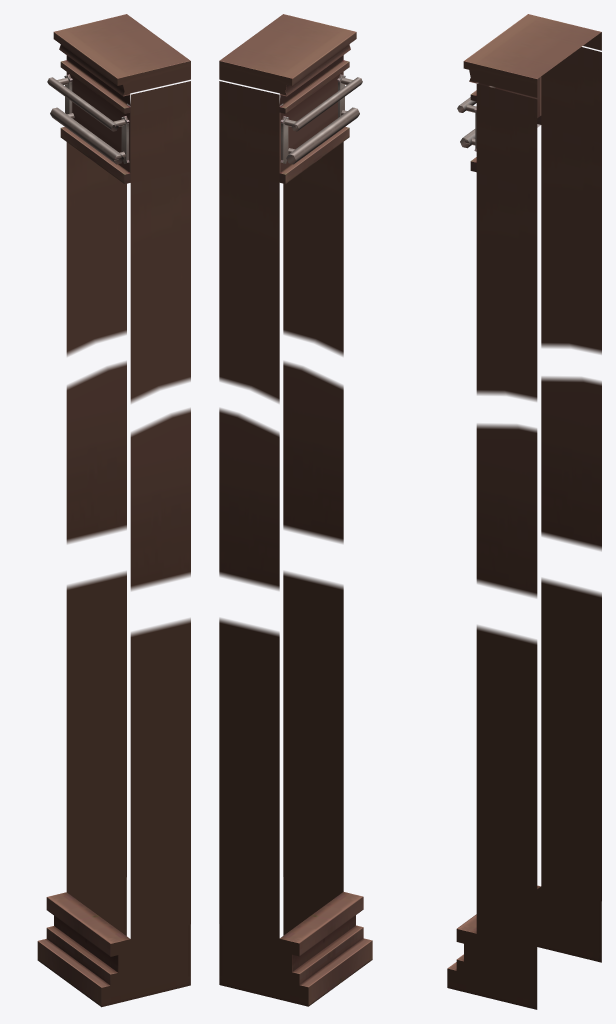
File: my_wildhunt_01_bookcase_02.glb
3 views of the same model, side by side, from view 1: azimuth 30°, elevation 25°; view 2: azimuth 150°, elevation 25°; view 3: azimuth 330°, elevation 25° (orthographic).
Parts seen in each view (by area): view 1: my_wildhunt_01_bookcase_02; view 2: my_wildhunt_01_bookcase_02; view 3: my_wildhunt_01_bookcase_02.
Boxes of the visible parts, left/top/right/bottom form: my_wildhunt_01_bookcase_02: left=37, top=14, right=190, bottom=1007; my_wildhunt_01_bookcase_02: left=219, top=14, right=372, bottom=1006; my_wildhunt_01_bookcase_02: left=447, top=14, right=601, bottom=1009.
Bounding box in the file's own units: 0.00588 × 0.0452 × 0.0059.
Materials: 1 (1 with a texture image).
